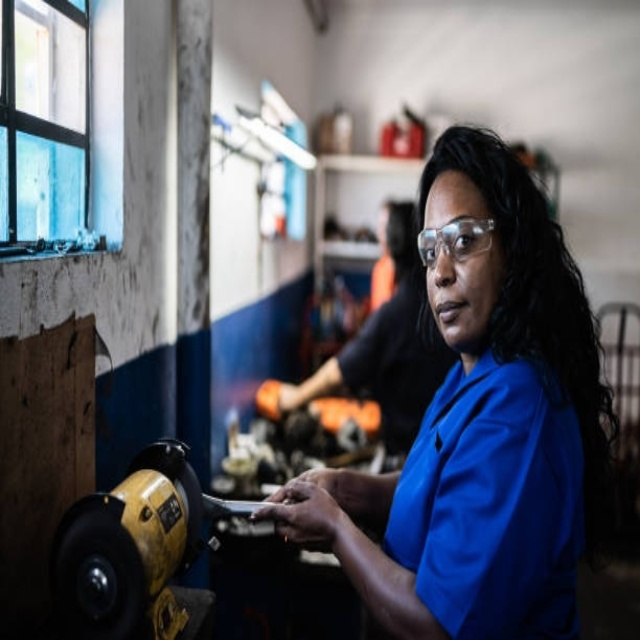Gafas: (416, 216, 498, 268)
Sin_guantes: (246, 479, 340, 549)
Sin_mascara: (429, 286, 473, 341)
